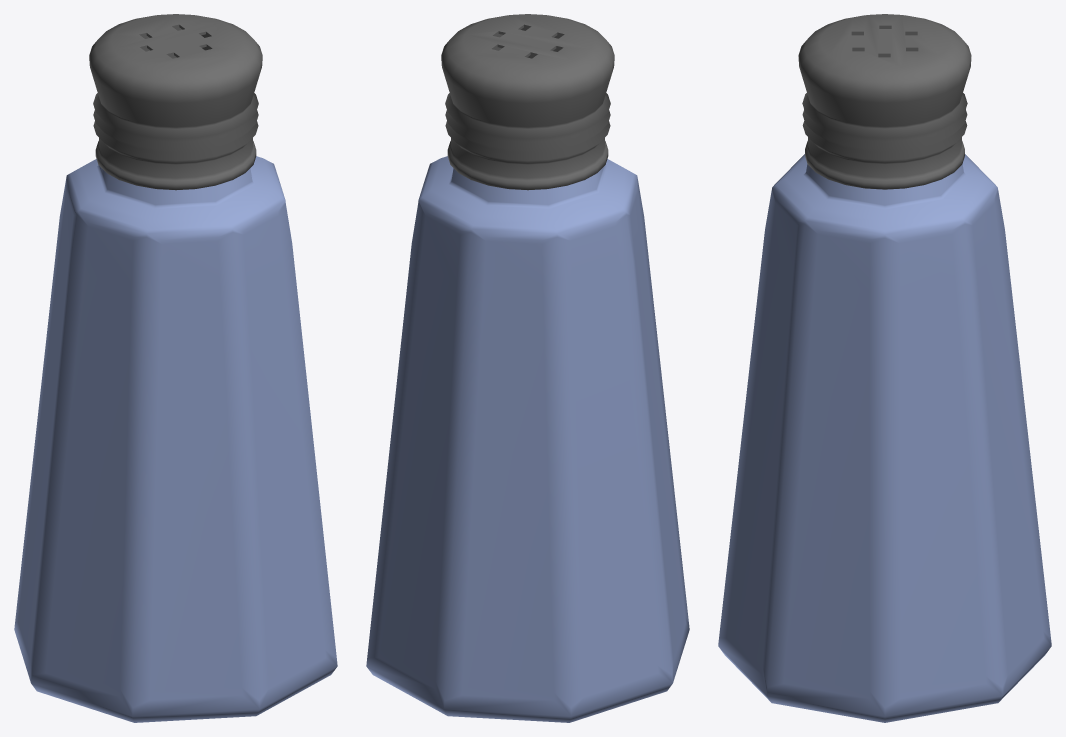
Rendered from Shaker1A.fbx.
The picture shows the model from 3 angles, left to right: view 1: azimuth 30°, elevation 25°; view 2: azimuth 150°, elevation 25°; view 3: azimuth 270°, elevation 25°; orthographic projection.
Visible parts, largest first — view 1: Cylinder.003; view 2: Cylinder.003; view 3: Cylinder.003.
Part boxes in pixels (x1=…): Cylinder.003: x1=14, y1=14, x2=337, y2=722; Cylinder.003: x1=366, y1=14, x2=689, y2=722; Cylinder.003: x1=718, y1=14, x2=1051, y2=722.
Bounding box in the file's own units: 217 × 441 × 217.
